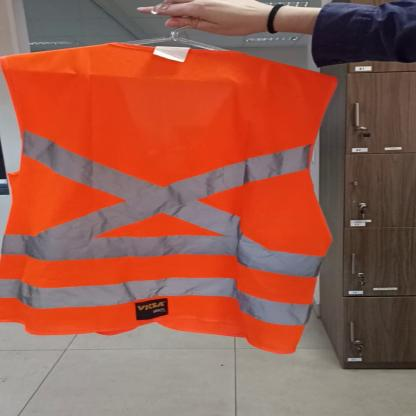colete: (2, 41, 333, 356)
